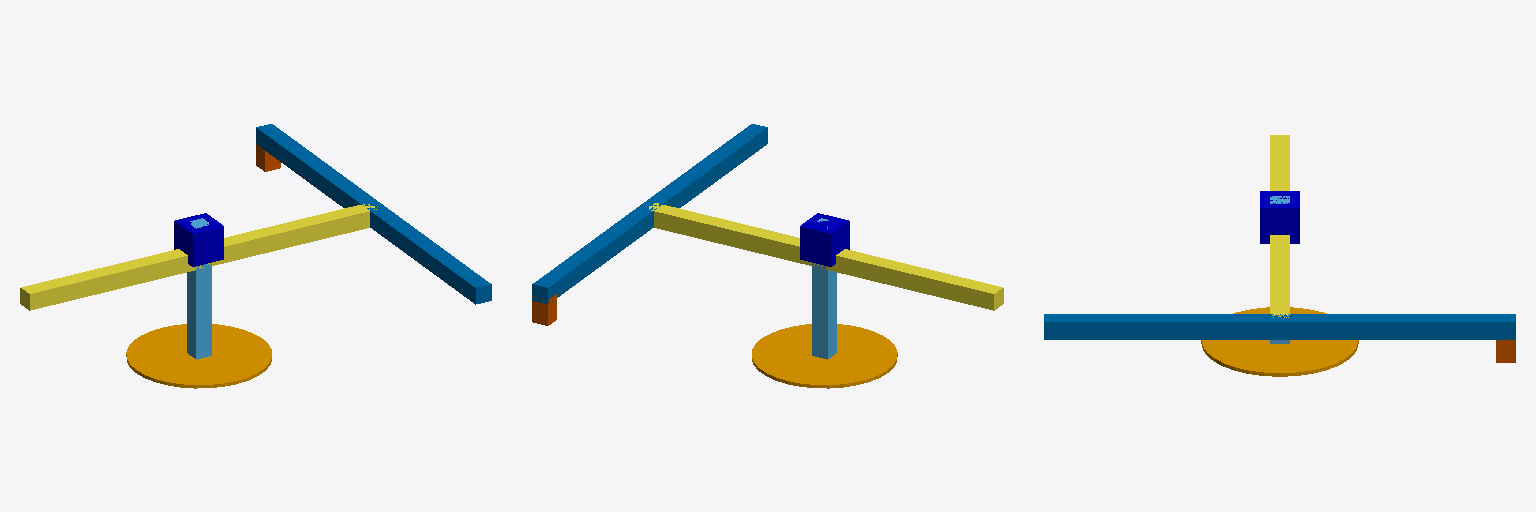
robot.urdf — PPP_Robot:
<?xml version="1.0"?>

<robot name="PPP_Robot">
    <!-- Define the bottom part -->
  <link name="bottom_link">
    <visual>
      <origin xyz="0 0 0.0005" rpy="0 0 0"/> 
      <geometry>
        <cylinder length="0.01" radius="0.2"/>
      </geometry>
    </visual>
    <!-- <collision>
      <origin xyz="0 0 0.0005" rpy="0 0 0"/> 
      <geometry>
        <cylinder length="0.01" radius="0.2"/>
      </geometry>
    </collision> -->
    <inertial>
      <mass value="100000"/>
      <inertia ixx="2.5" ixy="0.0" ixz="0.0" iyy="2.5" iyz="0.0" izz="0.1"/>
    </inertial>
  </link>

    <!-- Define the Z-arm link (30 cm along the Z-axis) -->
  <link name="z_arm_link">
    <visual>
     <origin xyz="0 0 0.2" rpy="0 0 0"/> 
      <geometry>
        <box size="0.05 0.05 0.4"/>
      </geometry>
    </visual>
    <collision>
      <origin xyz="0 0 0.2" rpy="0 0 0"/> 
      <geometry>
        <box size="0.05 0.05 0.4"/>
      </geometry>
    </collision>
    <inertial>
      <mass value="1"/>
      <inertia ixx="0.0035" ixy="0.0" ixz="0.0" iyy="0.00042" iyz="0.0" izz="0.0035"/>
    </inertial>
  </link>

  <joint name="fixed_joint" type="fixed">
    <origin xyz="0 0 0" rpy="0 0 0"/>
    <parent link="z_arm_link"/>
    <child link="bottom_link"/>
  </joint>

	<link name="movable_link">
 	 <visual>
    <origin xyz="0 0 0.05" rpy="0 0 0"/> 
    	<geometry>
      	<box size="0.1 0.1 0.1"/>
    	</geometry>
      <material name="blue">
        <color rgba="0 0 0.8 1"/>
      </material>
  	</visual>
    <collision>
      <geometry>
        <box size="0.1 0.1 0.1"/>
      </geometry>
    </collision>
    <inertial>
      <mass value="0.1"/>
      <inertia ixx="0.000166" ixy="0.0" ixz="0.0" iyy="0.000166" iyz="0.0" izz="0.000166"/>
    </inertial>
	</link>

  <!-- Define the first prismatic joint along the Z-axis -->
  <joint name="z_prismatic_joint" type="prismatic">
    <origin xyz="0 0 0.3" rpy="0 0 0"/>
    <parent link="z_arm_link"/>
    <child link="movable_link"/>
    <!-- Define the axis of motion along the Z-axis -->
    <axis xyz="0 0 1"/>
    <!-- Define the prismatic joint limit (20 cm) -->
    <limit lower="-0.15" upper="0.15" effort="10000.0" velocity="0.05" />
  </joint>

  <!-- Define the X-arm link (110 cm along the X-axis) -->
  <link name="x_arm_link">
    <visual>
      <geometry>
        <box size="1.1 0.05 0.05"/>
      </geometry>
    </visual>
    <collision>
      <geometry>
        <box size="1.1 0.05 0.05"/>
      </geometry>
    </collision>
    <inertial>
      <mass value="0.5"/>
      <inertia ixx="0.101" ixy="0.0" ixz="0.0" iyy="0.00042" iyz="0.0" izz="0.101"/>
    </inertial>
  </link>

  <!-- Define the second prismatic joint along the X-axis -->
  <joint name="x_prismatic_joint" type="prismatic">
    <origin xyz="0 0 0" rpy="0 0 0"/>
    <parent link="movable_link"/>
    <child link="x_arm_link"/>
    <!-- Define the axis of motion along the X-axis -->
    <axis xyz="1 0 0"/>
    <!-- Define the prismatic joint limit (40 cm) -->
    <limit lower="-0.2" upper="0.55" effort="1000.0" velocity="0.05" />
  </joint>

  <!-- Define the end effector link (120 cm along the Y-axis) -->
  <link name="y_arm_link">
    <visual>
      <geometry>
        <box size="0.05 1.2 0.05"/>
      </geometry>
    </visual>
    <collision>
      <geometry>
        <box size="0.05 1.2 0.05"/>
      </geometry>
    </collision>
    <inertial>
      <mass value="0.5"/>
      <inertia ixx="0.101" ixy="0.0" ixz="0.0" iyy="0.00042" iyz="0.0" izz="0.101"/>
    </inertial>
  </link>


  <!-- Define the third prismatic joint along the Y-axis -->
  <joint name="y_prismatic_joint" type="prismatic">
    <origin xyz="0.55 0 0" rpy="0 0 0"/>
    <parent link="x_arm_link"/>
    <child link="y_arm_link"/>
    <!-- Define the axis of motion along the Y-axis -->
    <axis xyz="0 1 0"/>
    <!-- Define the prismatic joint limit (10 cm) -->
    <limit lower="-0.3" upper="0.6" effort="1000.0" velocity="0.05" />
  </joint>

    <!-- Define the gripper link (10 cm along the Z-axis) -->
  <link name="gripper">
    <visual>
      <geometry>
        <box size="0.05 0.05 0.08"/>
      </geometry>
    </visual>
    <collision>
      <geometry>
        <box size="0.05 0.05 0.08"/>
      </geometry>
    </collision>
    <inertial>
      <mass value="0.1"/>
      <inertia ixx="0.101" ixy="0.0" ixz="0.0" iyy="0.00042" iyz="0.0" izz="0.101"/>
    </inertial>
  </link>

  <joint name="fixed_gripper_joint" type="fixed">
    <origin xyz="0 0.575 -0.05" rpy="0 0 0"/>
    <parent link="y_arm_link"/>
    <child link="gripper"/>
  </joint>

  <!-- Add gazebo part -->
  <gazebo>
    <plugin name="gazebo_ros_control" filename="libgazebo_ros_control.so">
      <robotNamespace>/PPP_Robot</robotNamespace>
    </plugin>
  </gazebo>
  <!-- Add colors to joints in gazebo-->
  <gazebo reference="movable_link">
    <material>Gazebo/Orange</material>
  </gazebo>
  <gazebo reference="z_arm_link">
    <material>Gazebo/Blue</material>
  </gazebo>
  <gazebo reference="y_arm_link">
    <material>Gazebo/Green</material>
  </gazebo>
  <gazebo reference="x_arm_link">
    <material>Gazebo/Red</material>
  </gazebo>
  <gazebo reference="gripper">
    <material>Gazebo/Black</material>
  </gazebo>

  <!-- Add transmission parts-->
  <transmission name="tran1">
    <type>transmission_interface/SimpleTransmission</type>
    <joint name="z_prismatic_joint">
      <hardwareInterface>EffortJointInterface</hardwareInterface>
    </joint>
    <actuator name="motor1">
      <hardwareInterface>EffortJointInterface</hardwareInterface>
      <mechanicalReduction>1</mechanicalReduction>
    </actuator>
  </transmission>

  <transmission name="tran2">
    <type>transmission_interface/SimpleTransmission</type>
    <joint name="x_prismatic_joint">
      <hardwareInterface>EffortJointInterface</hardwareInterface>
    </joint>
    <actuator name="motor2">
      <hardwareInterface>EffortJointInterface</hardwareInterface>
      <mechanicalReduction>1</mechanicalReduction>
    </actuator>
  </transmission>

  <transmission name="tran3">
    <type>transmission_interface/SimpleTransmission</type>
    <joint name="y_prismatic_joint">
      <hardwareInterface>EffortJointInterface</hardwareInterface>
    </joint>
    <actuator name="motor3">
      <hardwareInterface>EffortJointInterface</hardwareInterface>
      <mechanicalReduction>1</mechanicalReduction>
    </actuator>
  </transmission>

</robot>

--- Facts derived from the render (not from the file) ---
3 views of the same robot in one strip: view 1: azimuth 30°, elevation 25°; view 2: azimuth 150°, elevation 25°; view 3: azimuth 270°, elevation 25° (orthographic).
Robot: PPP_Robot — 6 links, 5 joints (3 prismatic, 2 fixed); root link z_arm_link; default pose: all joints at 0.
Visible links, largest first — view 1: x_arm_link, y_arm_link, bottom_link, z_arm_link, movable_link; view 2: x_arm_link, y_arm_link, bottom_link, z_arm_link, movable_link, gripper; view 3: y_arm_link, bottom_link, x_arm_link, movable_link.
Link boxes in pixels (box(x1,y1,x2,y2)): x_arm_link: box(20, 204, 376, 310); y_arm_link: box(256, 124, 491, 304); bottom_link: box(126, 324, 271, 388); z_arm_link: box(187, 218, 211, 359); movable_link: box(174, 213, 223, 266); x_arm_link: box(649, 203, 1003, 310); y_arm_link: box(532, 124, 767, 303); bottom_link: box(752, 324, 897, 388); z_arm_link: box(812, 218, 836, 359); movable_link: box(800, 213, 849, 266); gripper: box(532, 294, 556, 325); y_arm_link: box(1044, 314, 1515, 339); bottom_link: box(1201, 307, 1358, 376); x_arm_link: box(1270, 135, 1289, 317); movable_link: box(1260, 191, 1299, 243).
Bounding box of the posed robot: 1.12 × 1.2 × 0.4045 m (x, y, z).
Geometry: primitives only (box / cylinder / sphere), no mesh files.